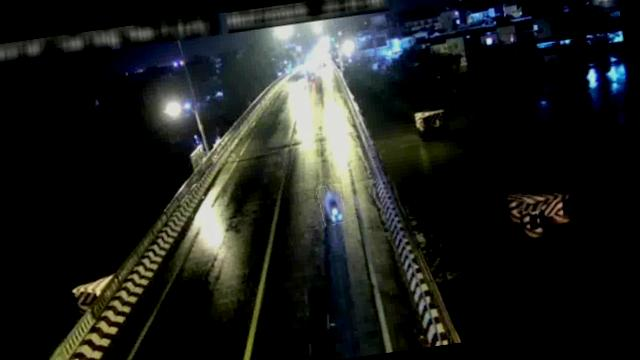Bike: (317, 183, 346, 226)
